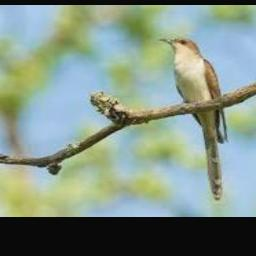Cuckoo: (157, 37, 228, 200)
